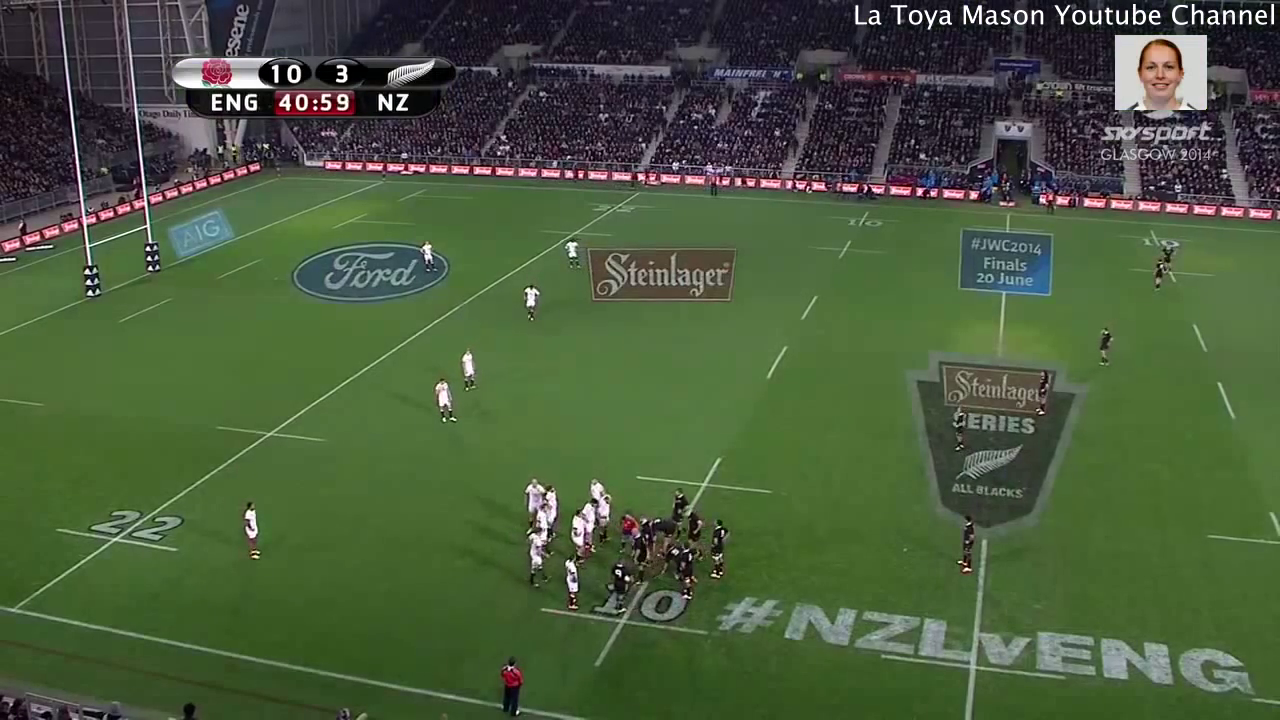10_metre: (536, 568, 710, 669), (632, 452, 780, 518), (1202, 508, 1280, 552), (1127, 258, 1219, 288), (807, 237, 892, 262), (1115, 227, 1196, 252), (825, 208, 903, 232)
player: (238, 494, 267, 564), (950, 510, 979, 578), (432, 376, 464, 425), (707, 515, 729, 583), (522, 527, 546, 589), (608, 553, 631, 607), (561, 552, 582, 611), (457, 345, 483, 392), (517, 282, 546, 322), (627, 526, 649, 575), (1032, 367, 1052, 419), (666, 485, 688, 529), (1096, 321, 1116, 369), (950, 404, 969, 453), (561, 236, 587, 271), (597, 492, 614, 545), (418, 236, 440, 275), (525, 473, 547, 510), (684, 508, 703, 549), (680, 544, 695, 594), (1157, 239, 1177, 272), (651, 517, 677, 542), (586, 476, 609, 501), (620, 509, 636, 544), (1151, 257, 1166, 290), (662, 541, 678, 570)
post: (58, 133, 168, 299)
